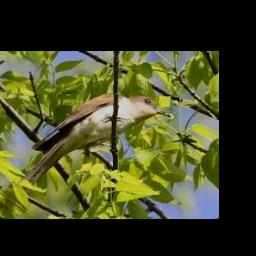Cuckoo: (17, 94, 171, 196)
